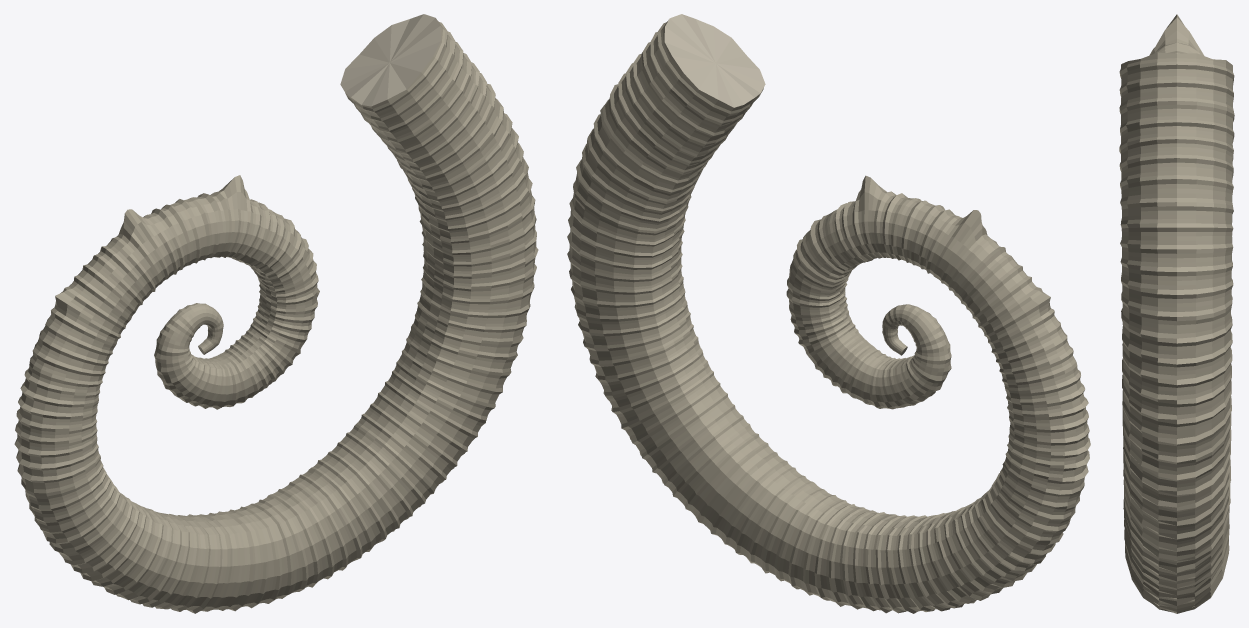
3 views of the same model, side by side, from view 1: azimuth 30°, elevation 25°; view 2: azimuth 150°, elevation 25°; view 3: azimuth 270°, elevation 25° (orthographic). The views are drawn at different scales.
Parts seen in each view (by area): view 1: Continuous fossil coil; view 2: Continuous fossil coil; view 3: Continuous fossil coil.
Boxes of the visible parts, bbox=[...] form: Continuous fossil coil: bbox=[14, 14, 538, 613]; Continuous fossil coil: bbox=[567, 14, 1090, 613]; Continuous fossil coil: bbox=[1119, 14, 1234, 613].
Size of the model in its own units: 0.0543 by 0.0545 by 0.00897.
